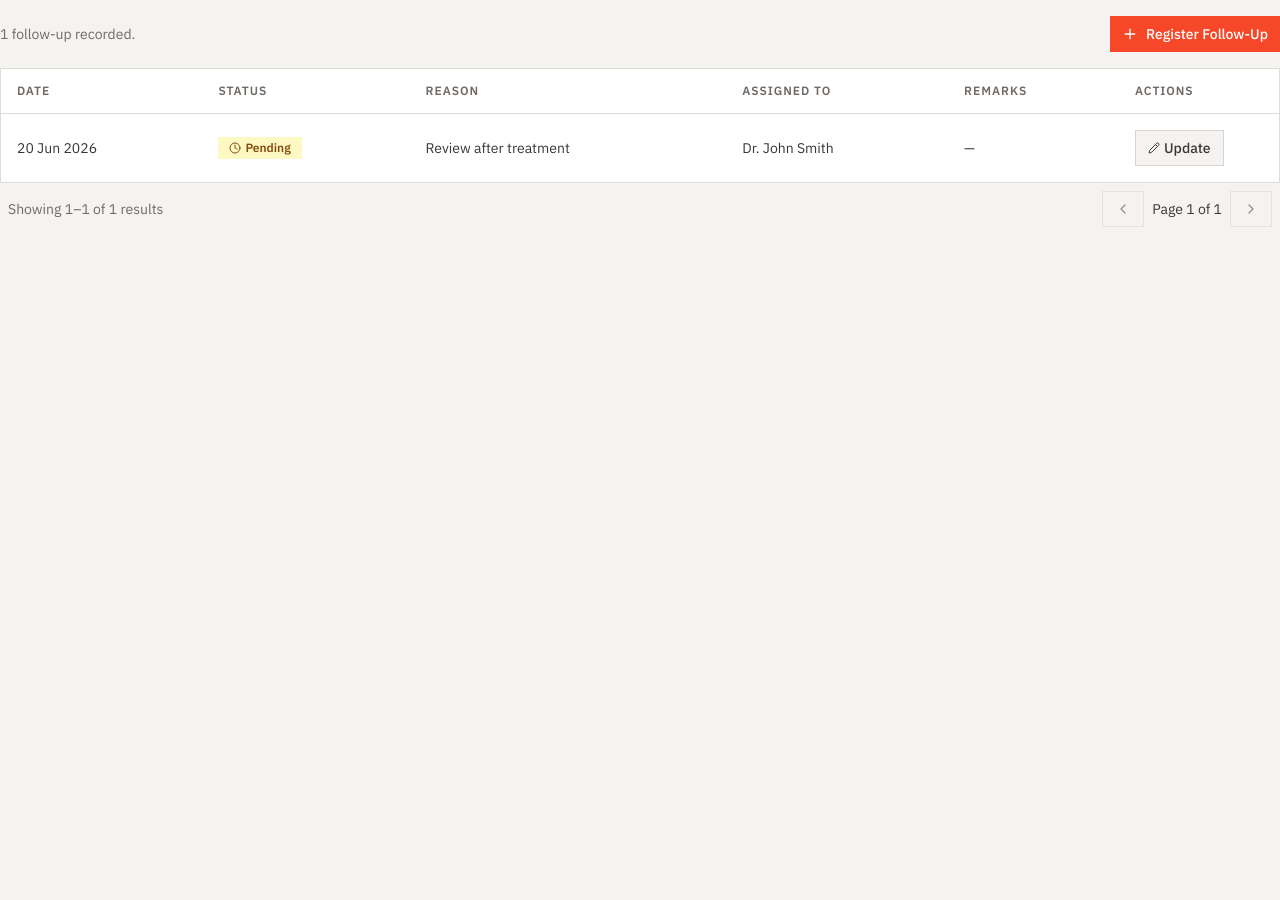
Test: FollowUpsTab — interactions › opens the create dialog when Register Follow-Up is clicked
The image size is (1280, 900).
Check: the text "Review after treatment" is shown, box [426,138,570,156]
Click the button "Register Follow-Up". click: (1195, 34)
box: [1110,16,1279,52]
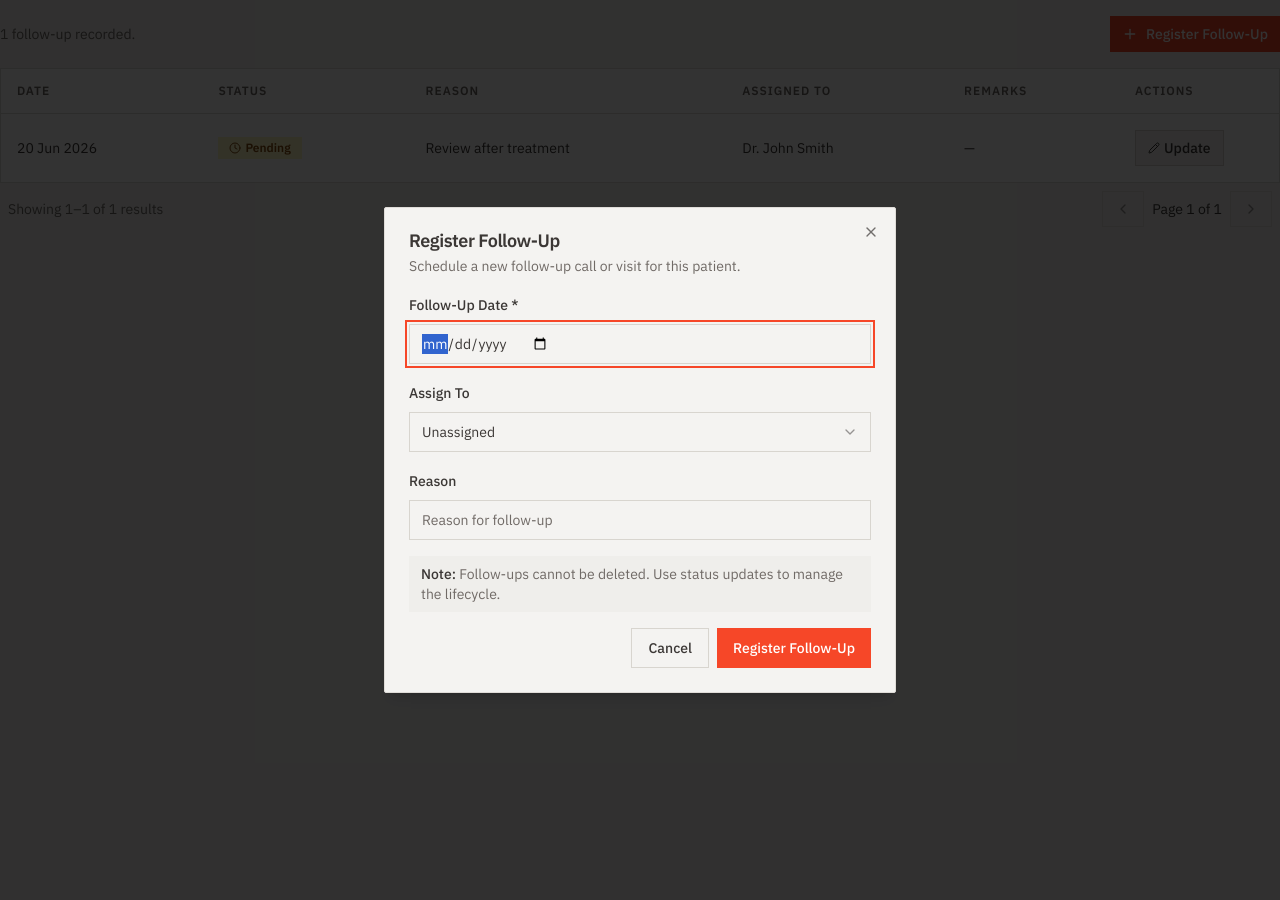
Check: the dialog "Register Follow-Up" is shown, box [384,207,896,693]
